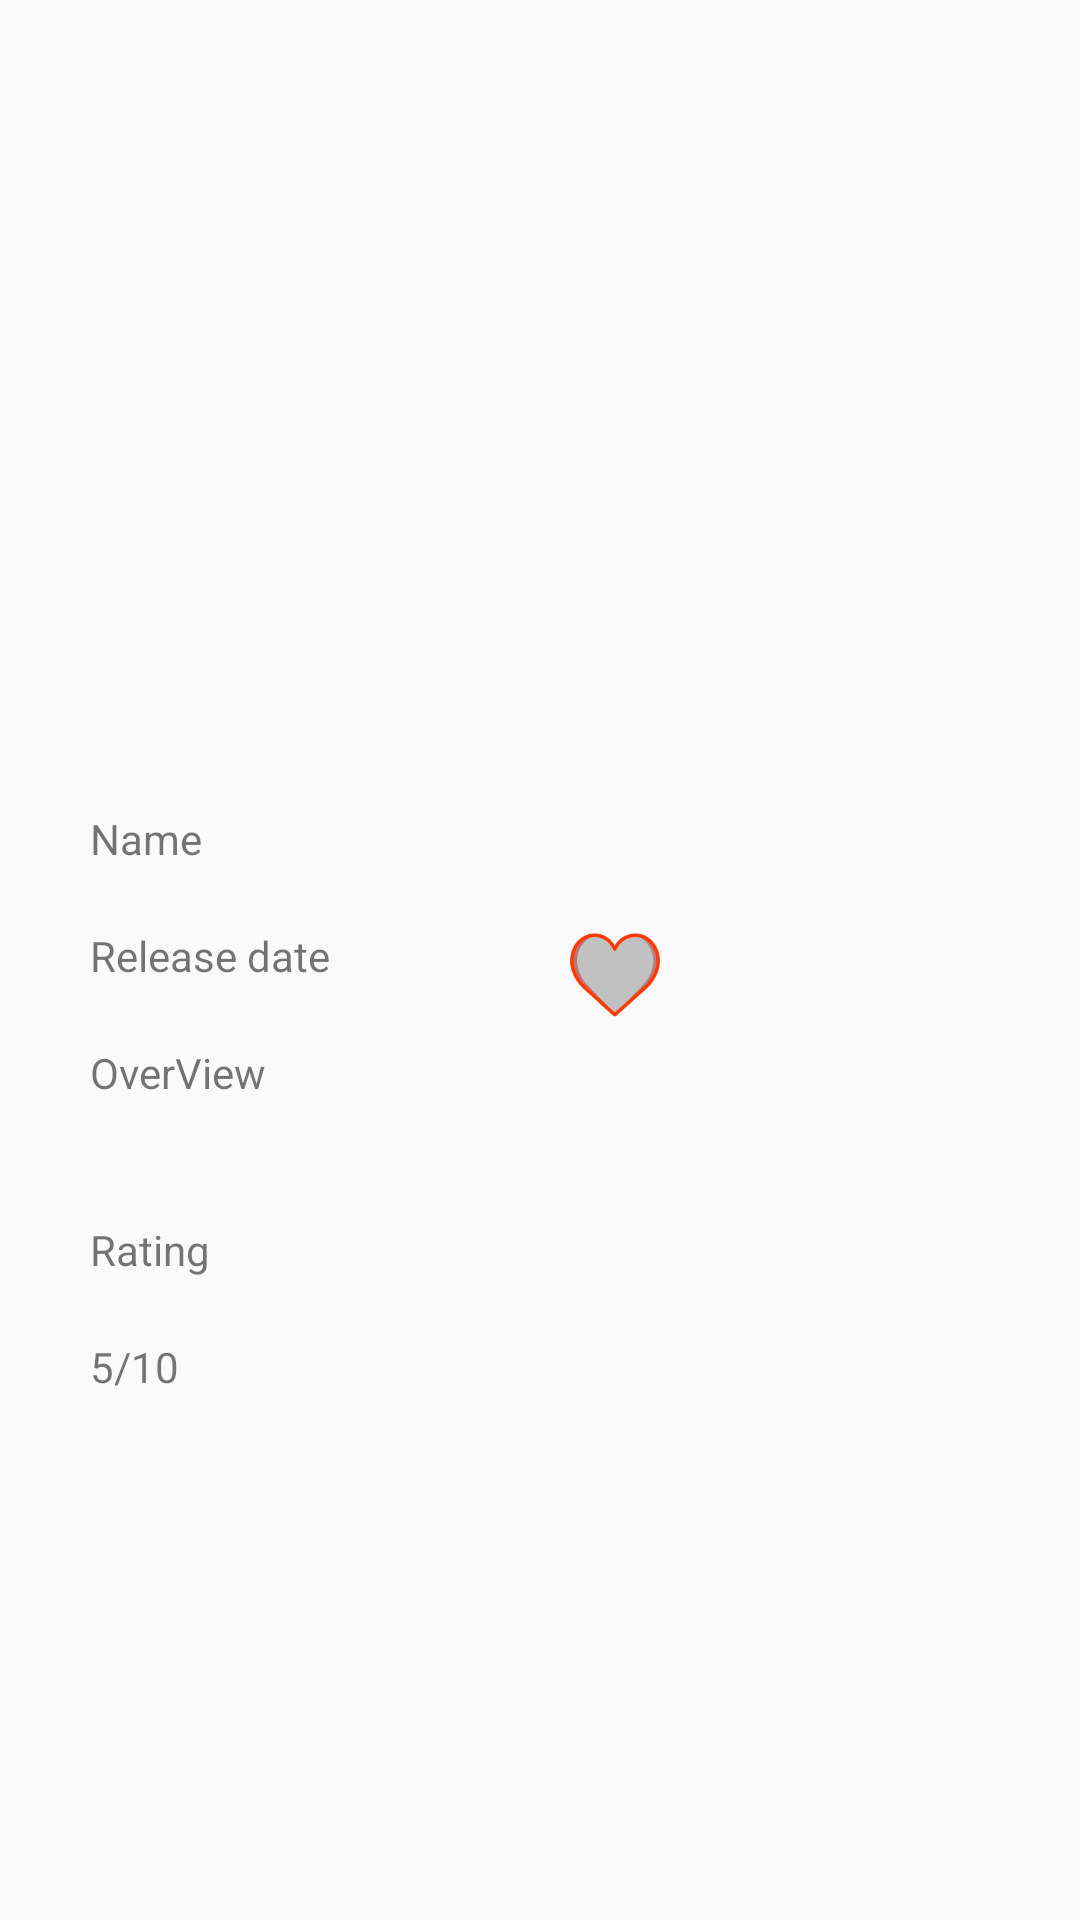

Icons on this 1080px×1920px Android screen, each with its box as (x1, y1, x2, y2):
like: (570, 933, 660, 1017)
